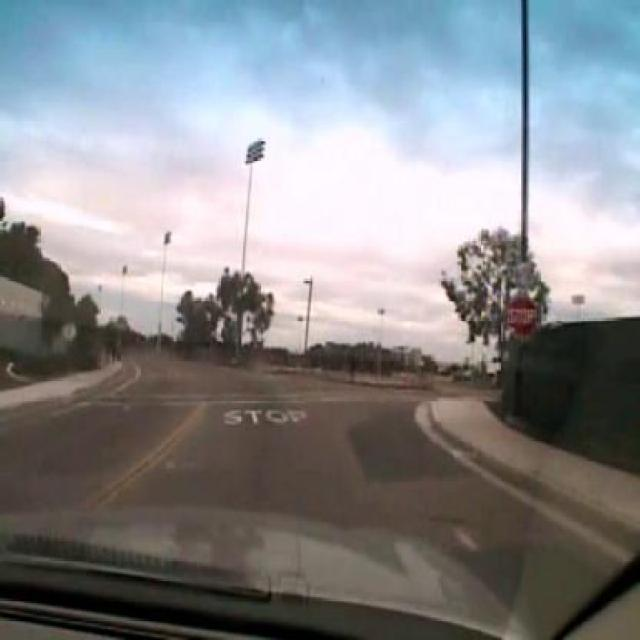stop: (508, 295, 542, 342)
